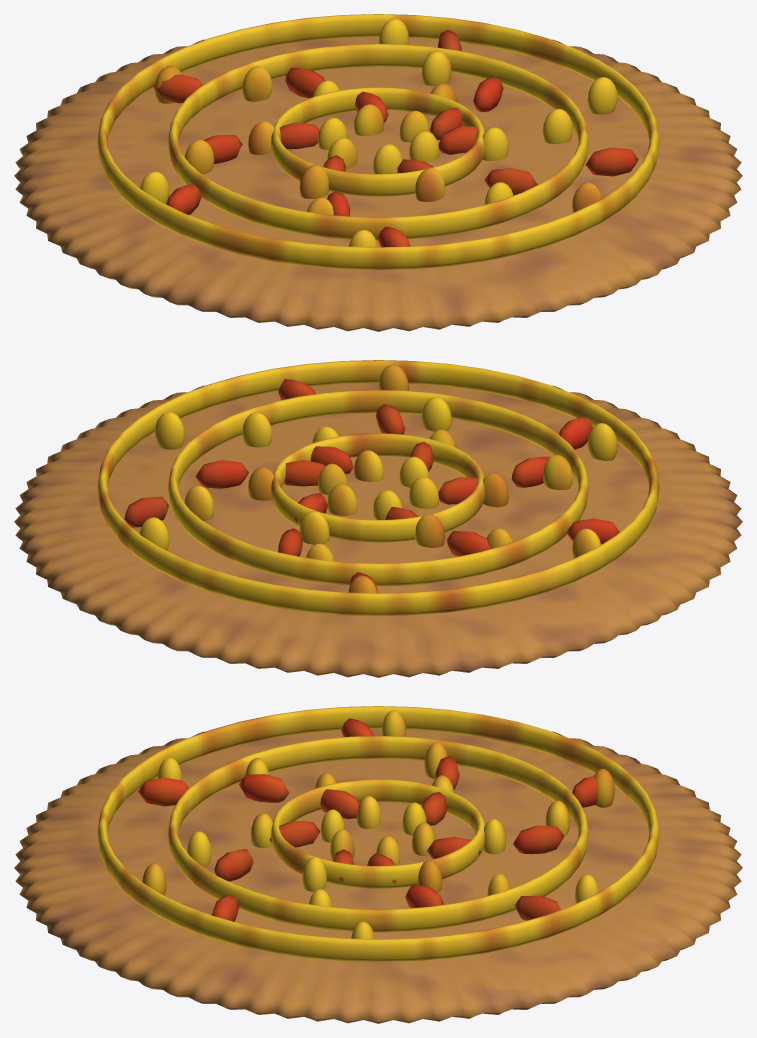
The model's file is peri-peri-fiesta-pizza-high.glb.
3 renders of one model, top to bottom at view 1: azimuth 30°, elevation 25°; view 2: azimuth 150°, elevation 25°; view 3: azimuth 270°, elevation 25°, orthographic.
Visible parts, largest first — view 1: Mesh_Artisan_Pizza_Crust, Mesh_Fiesta_Corn_Chili_And_Aioli, Mesh_Peri_Peri_Chicken_Strips; view 2: Mesh_Artisan_Pizza_Crust, Mesh_Fiesta_Corn_Chili_And_Aioli, Mesh_Peri_Peri_Chicken_Strips; view 3: Mesh_Artisan_Pizza_Crust, Mesh_Fiesta_Corn_Chili_And_Aioli, Mesh_Peri_Peri_Chicken_Strips.
Part boxes in pixels (x1,y1,x2,y2): Mesh_Artisan_Pizza_Crust: [14, 37, 742, 331]; Mesh_Fiesta_Corn_Chili_And_Aioli: [97, 14, 659, 270]; Mesh_Peri_Peri_Chicken_Strips: [153, 29, 638, 247]; Mesh_Artisan_Pizza_Crust: [14, 383, 742, 677]; Mesh_Fiesta_Corn_Chili_And_Aioli: [97, 360, 659, 616]; Mesh_Peri_Peri_Chicken_Strips: [124, 379, 619, 593]; Mesh_Artisan_Pizza_Crust: [14, 729, 742, 1023]; Mesh_Fiesta_Corn_Chili_And_Aioli: [97, 706, 659, 962]; Mesh_Peri_Peri_Chicken_Strips: [138, 718, 598, 921].
Size of the model in its own units: 2.4 by 0.28 by 2.4.
4 materials, 4 textured.
